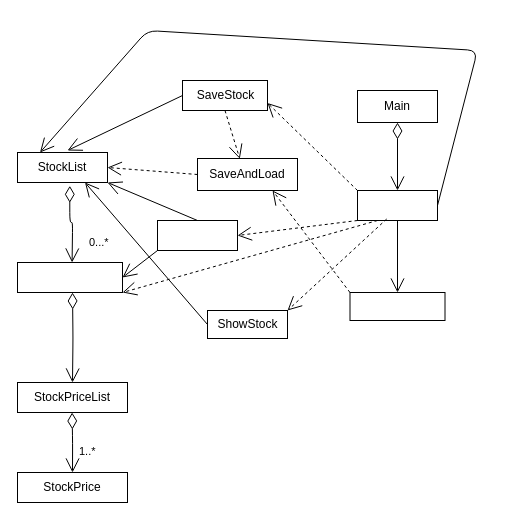
This 509x520 diagram has some shape labels left out. The centre of each missing label's shape, as x and y in pixels:
AddStock: pixel 197 235
LoadStocks: pixel 397 306
Stock: pixel 69 277
StockApp: pixel 397 205
